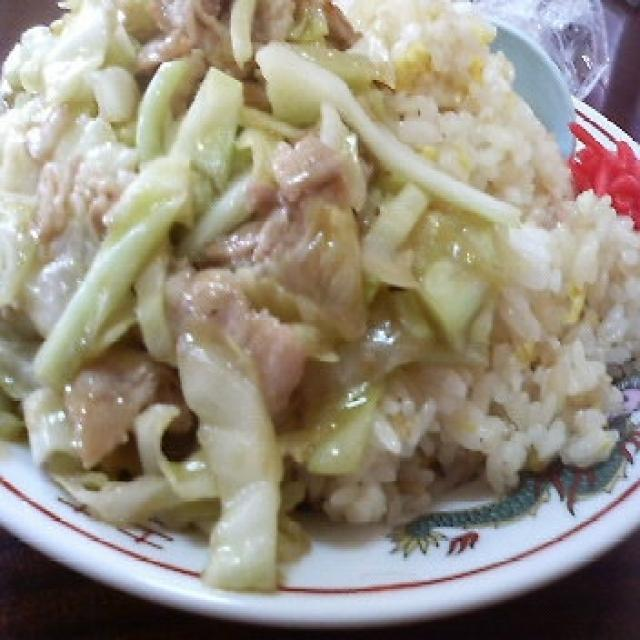蔬菜料理: (0, 0, 632, 553)
